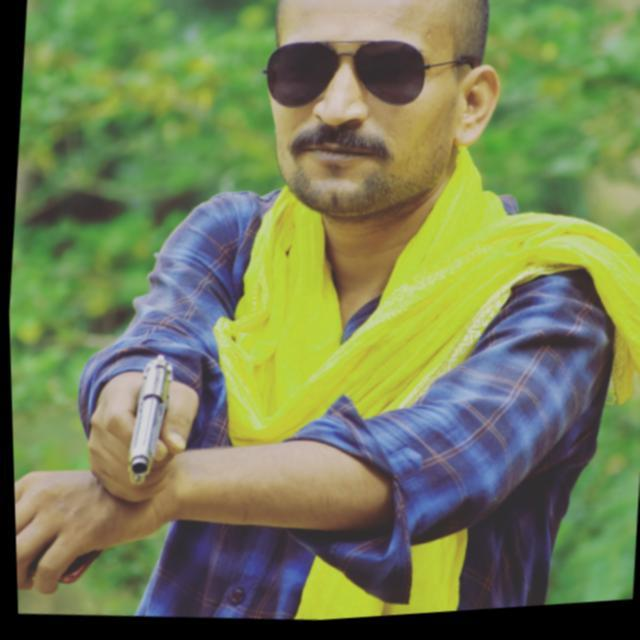weapon: (116, 347, 194, 496)
